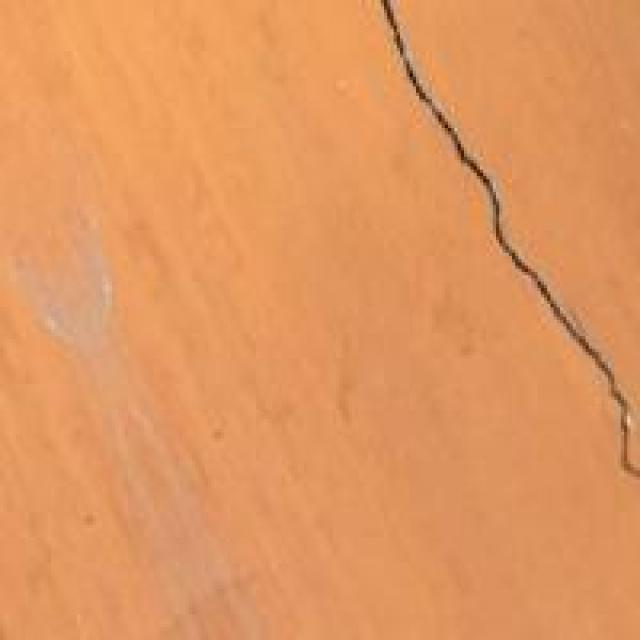crack: (368, 0, 637, 528)
